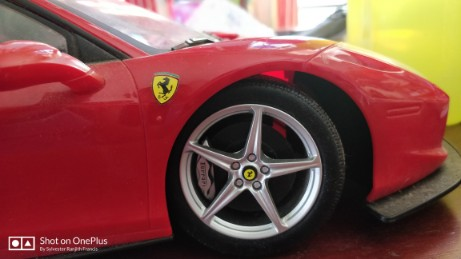unaligned_wheel: (167, 76, 346, 252)
